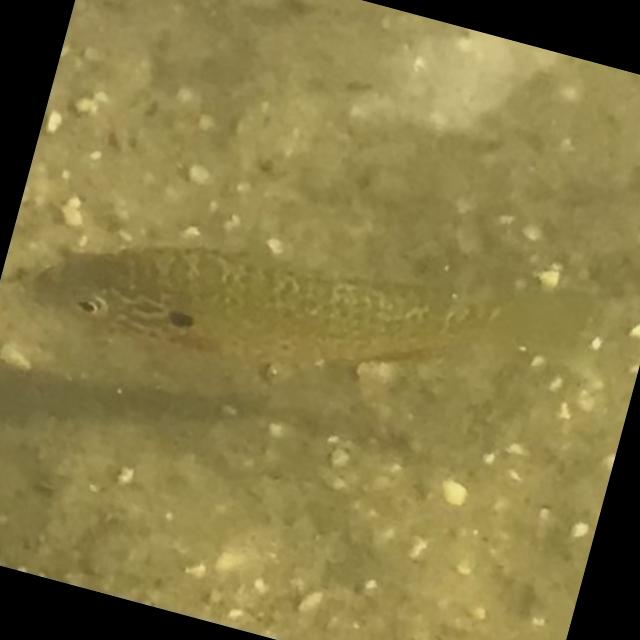Gunes Levregi: (0, 135, 609, 502)
